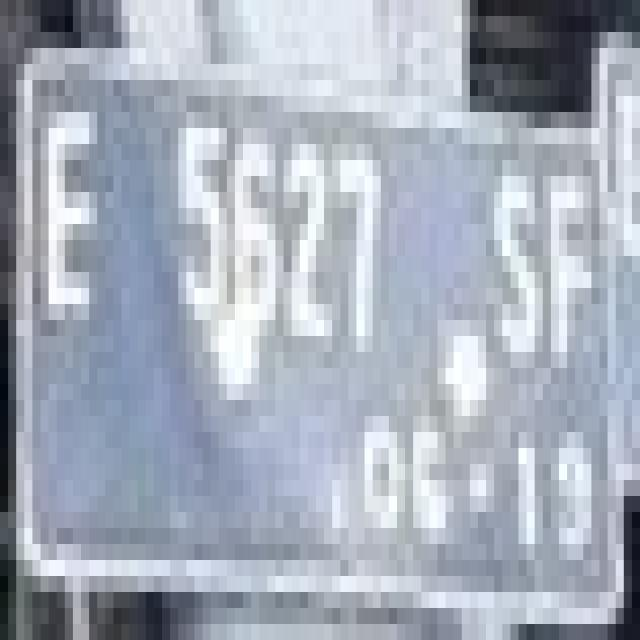plate: (8, 32, 616, 608)
